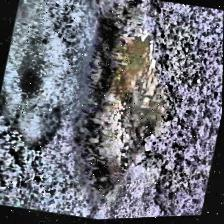pothole: (52, 0, 192, 214)
